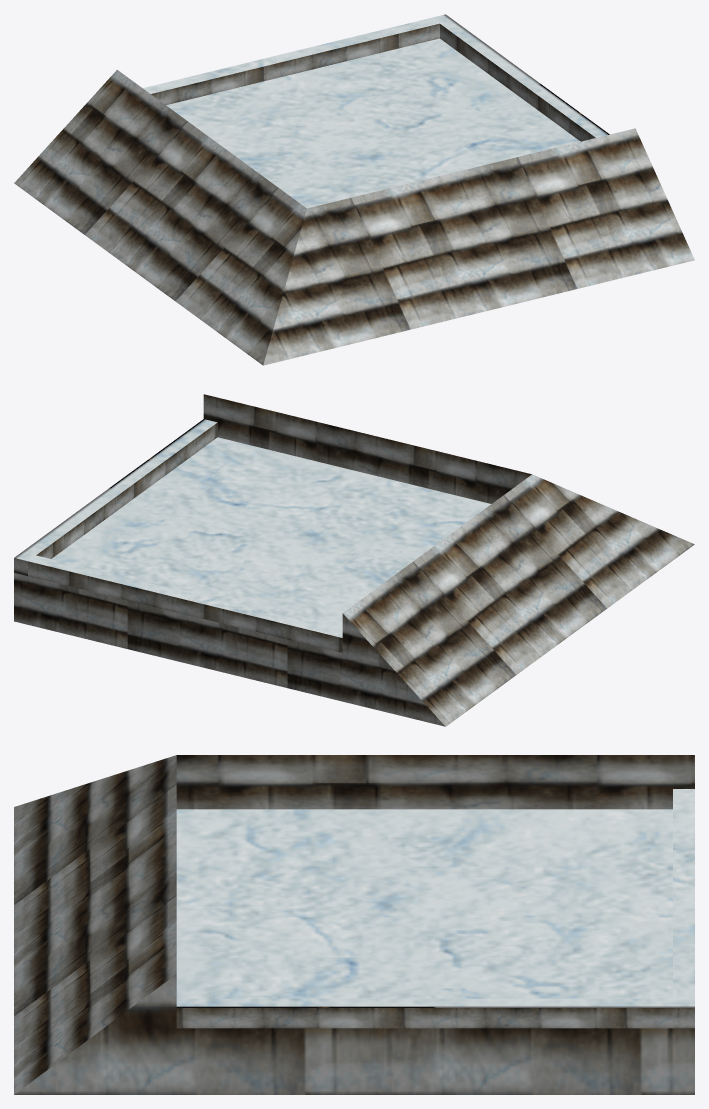
3 views of the same model, one above another, from view 1: azimuth 30°, elevation 25°; view 2: azimuth 150°, elevation 25°; view 3: azimuth 270°, elevation 25° (orthographic). The views are drawn at different scales.
Visible parts, largest first — view 1: a82; view 2: a82; view 3: a82.
Boxes of the visible parts, left/top/right/bottom form: a82: left=14, top=14, right=694, bottom=365; a82: left=14, top=394, right=694, bottom=726; a82: left=14, top=755, right=694, bottom=1094.
Bounding box in the file's own units: 1169 × 229 × 1168.
